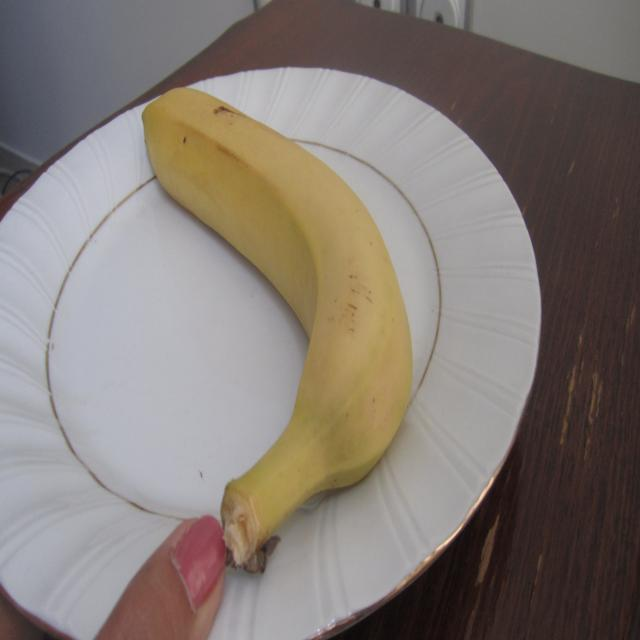Banana: (133, 73, 414, 572)
Finger: (102, 510, 229, 640)
